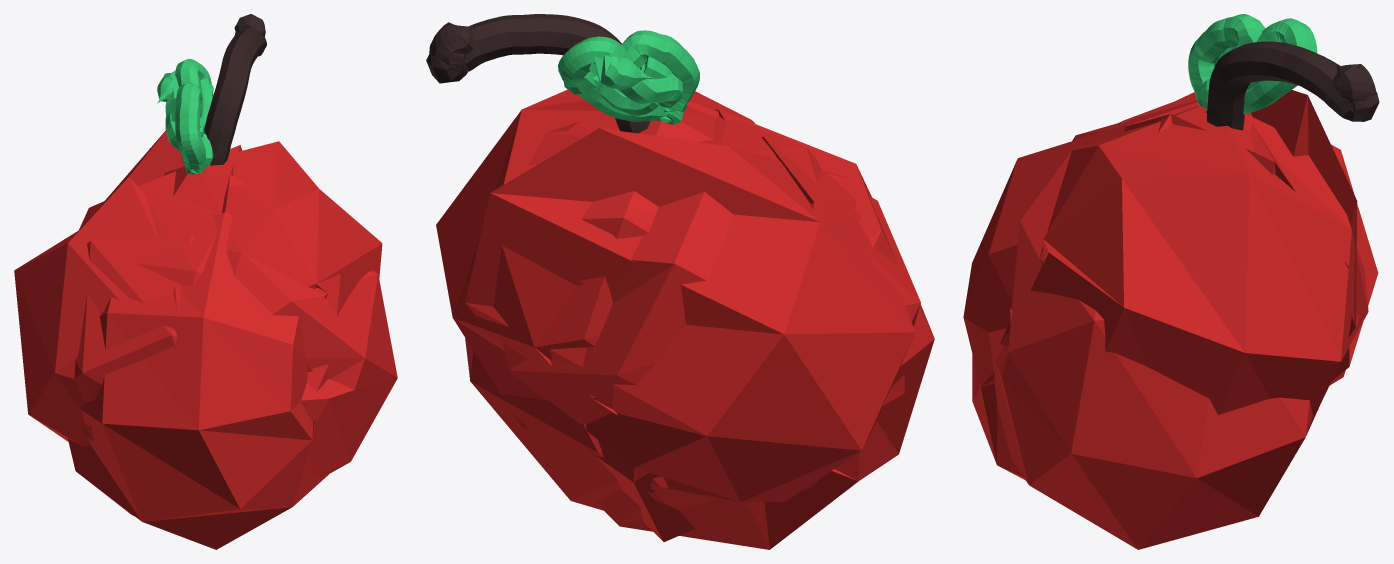
File: abols.fbx
3 renders of one model, left to right at view 1: azimuth 30°, elevation 25°; view 2: azimuth 150°, elevation 25°; view 3: azimuth 270°, elevation 25°, orthographic. The views are drawn at different scales.
Parts seen in each view (by area): view 1: Paint; view 2: Paint; view 3: Paint.
Part boxes in pixels (bbox=[...]): Paint: bbox=[14, 14, 397, 549]; Paint: bbox=[426, 14, 934, 549]; Paint: bbox=[963, 14, 1379, 549].
Bounding box in the file's own units: 0.1771 × 0.2139 × 0.1516.
